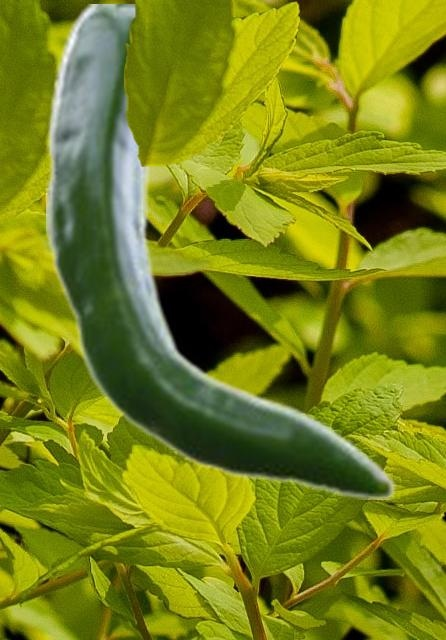green_chili: (46, 4, 396, 498)
